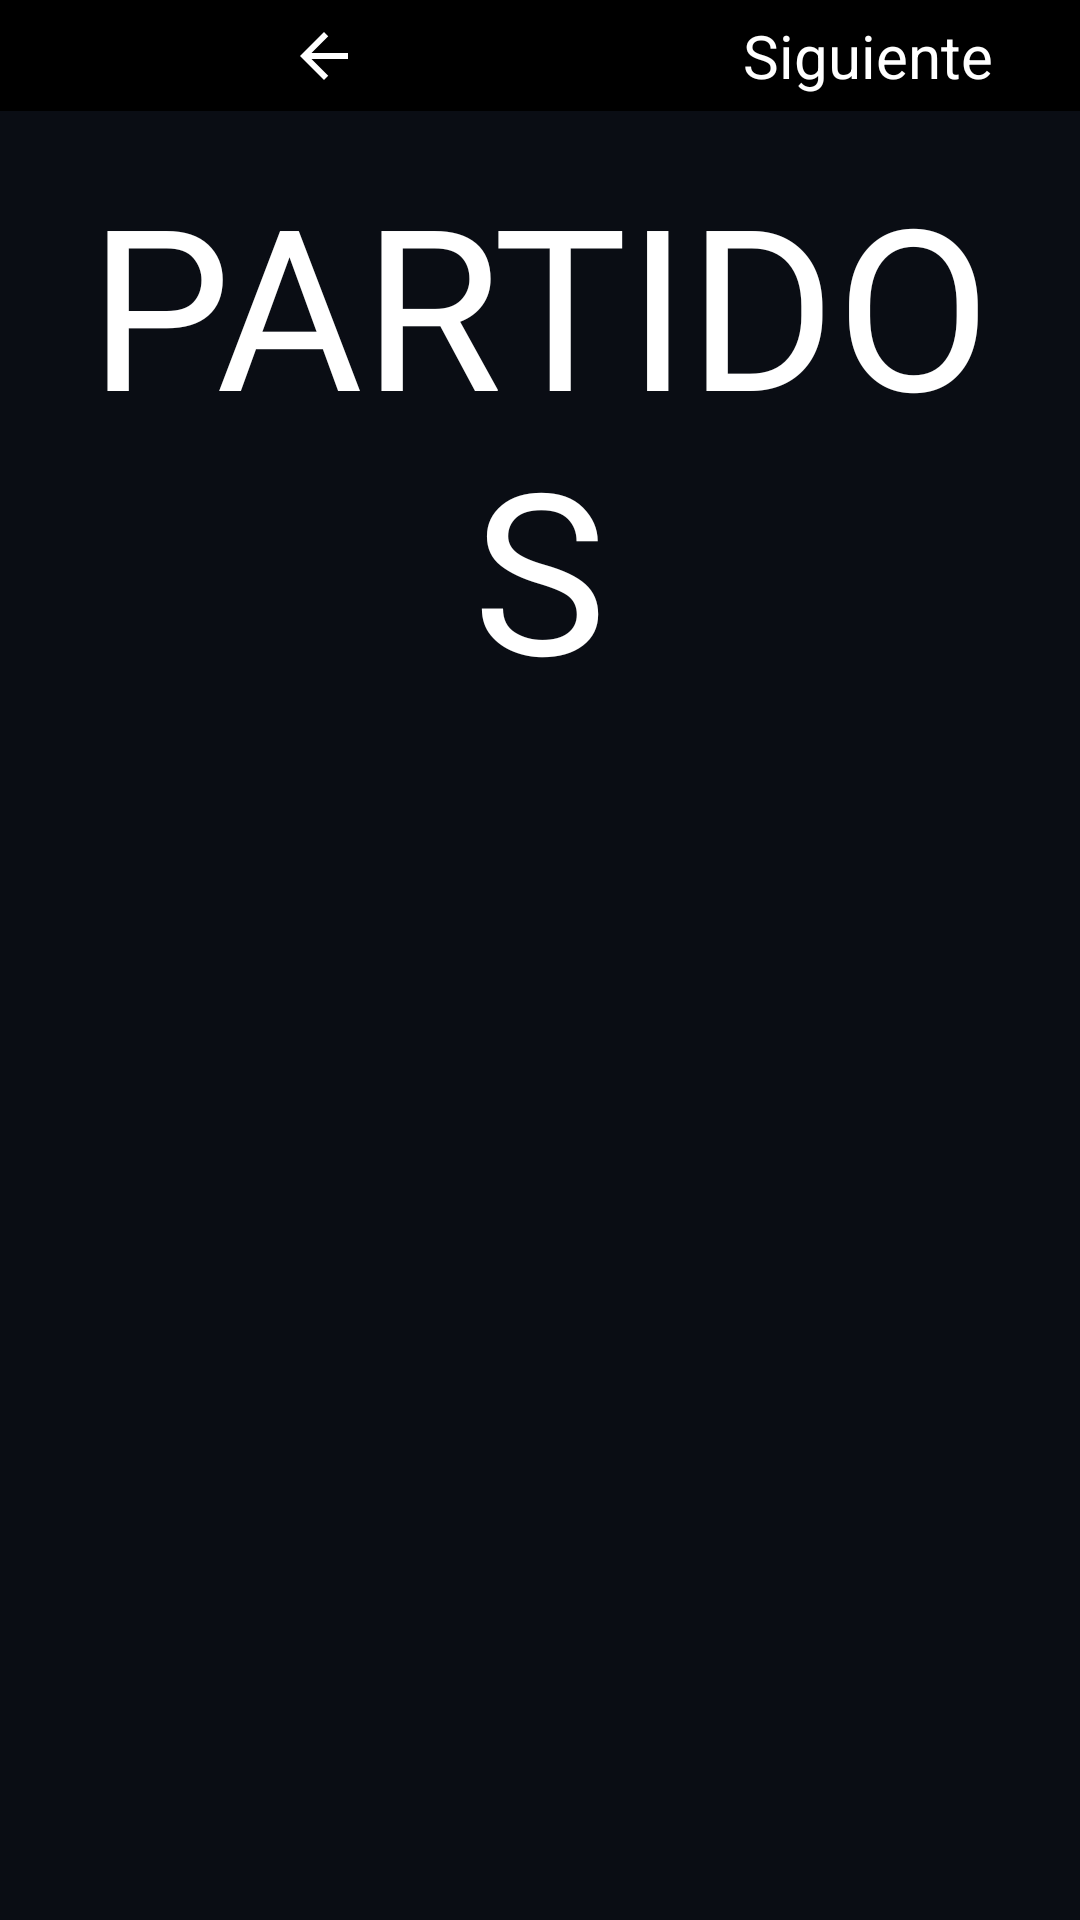

Icon bounding boxes for this 1080 × 1920 phone screenshot, format bbox=(x1, y1, x2, y2):
arrow back: bbox=(300, 32, 348, 80)
